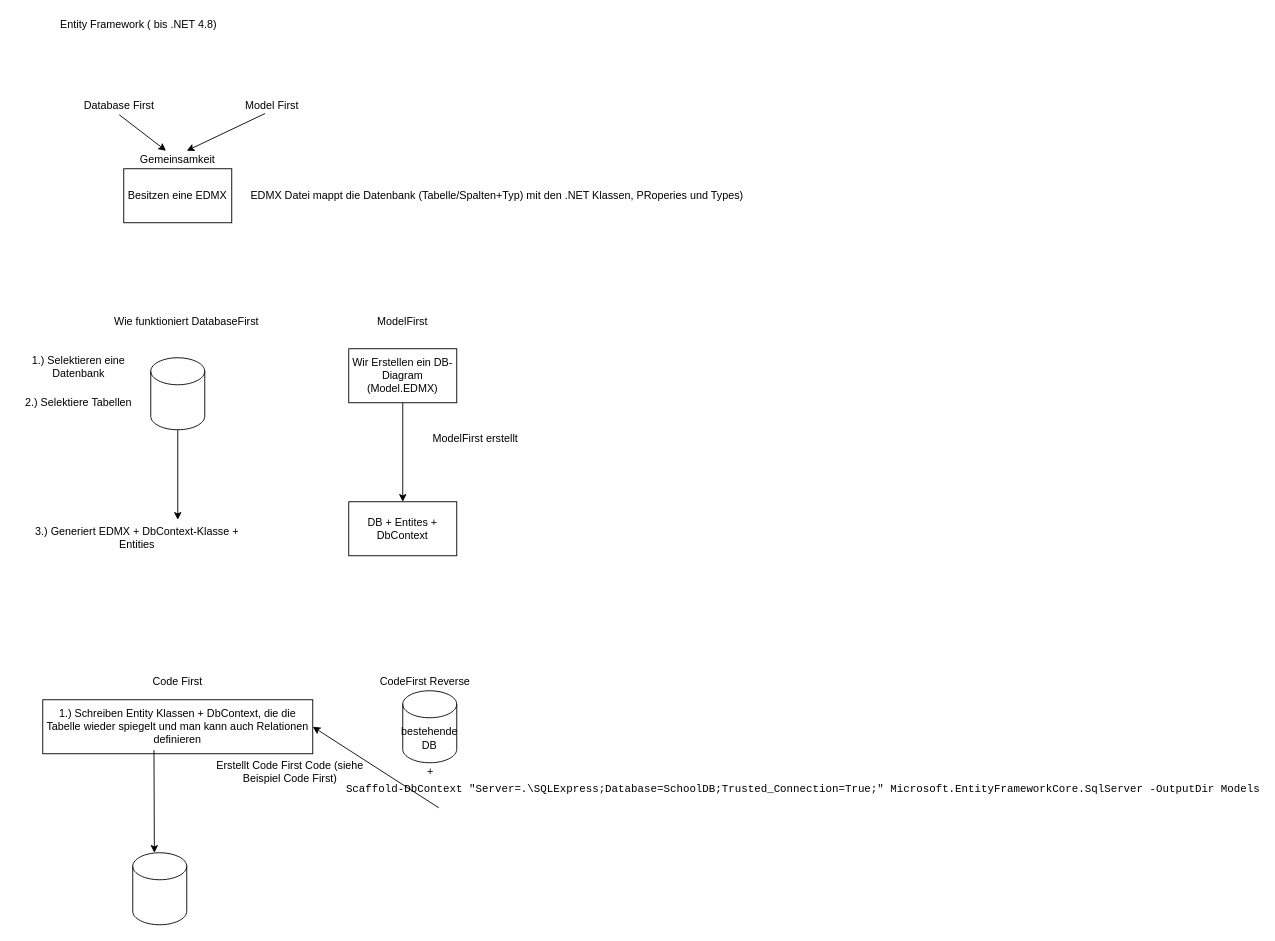
The diagram is 1275 pixels wide and 941 high, and some of its shapes have lost their labels. The shapes that lost their labels are listed below. From the top down, each one's box as (x1, y1, x2, y2) in pixels, then its label:
(150, 357, 205, 430): DB
(132, 852, 187, 925): DB wird erstellt
